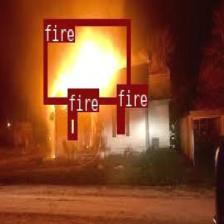fire: (43, 18, 130, 103), (68, 112, 76, 138), (116, 107, 124, 132)
